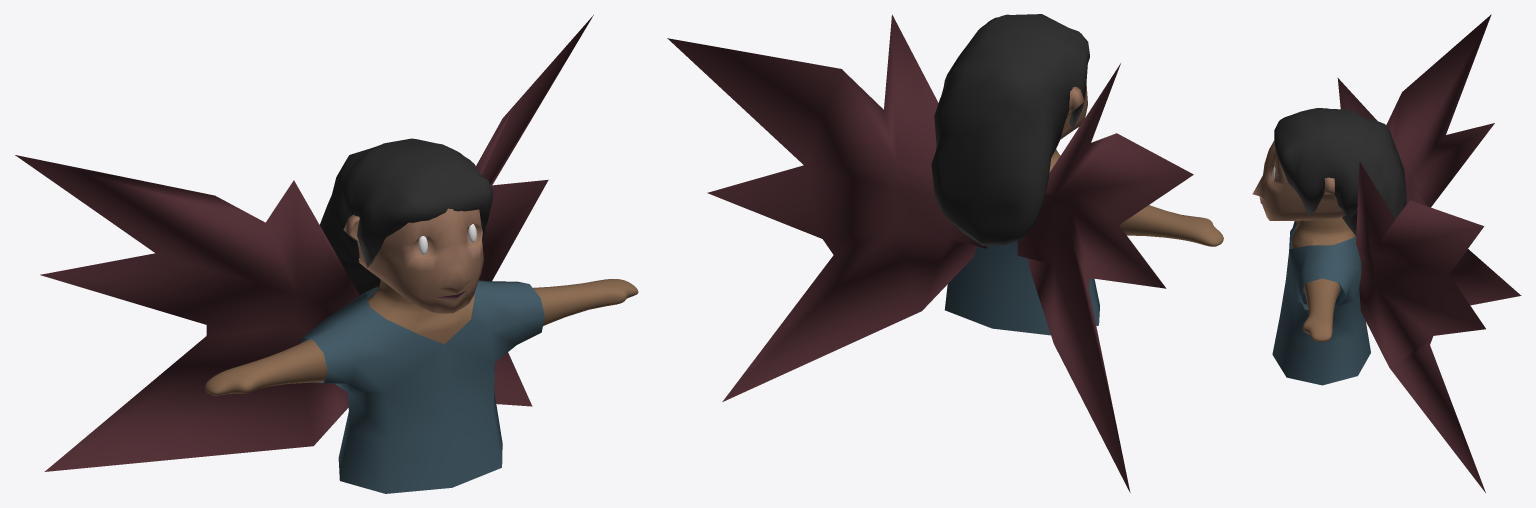
File: manananggal1.glb
The picture shows the model from 3 angles, left to right: view 1: azimuth 30°, elevation 25°; view 2: azimuth 150°, elevation 25°; view 3: azimuth 270°, elevation 25°; orthographic projection. The views are drawn at different scales.
Visible parts, largest first — view 1: upbody, dress, Cube, head; view 2: upbody, Cube, dress, head; view 3: upbody, Cube, dress, head.
Part boxes in pixels (bbox=[...]): upbody: bbox=[15, 15, 638, 471]; dress: bbox=[301, 280, 544, 493]; Cube: bbox=[320, 138, 493, 295]; head: bbox=[343, 208, 483, 313]; upbody: bbox=[667, 14, 1223, 492]; Cube: bbox=[931, 14, 1089, 245]; dress: bbox=[944, 240, 1099, 335]; head: bbox=[1060, 83, 1087, 139]; upbody: bbox=[1291, 14, 1521, 492]; Cube: bbox=[1274, 108, 1406, 235]; dress: bbox=[1272, 221, 1370, 385]; head: bbox=[1252, 140, 1345, 220].
Size of the model in its own units: 4.06 by 2.61 by 2.15.
